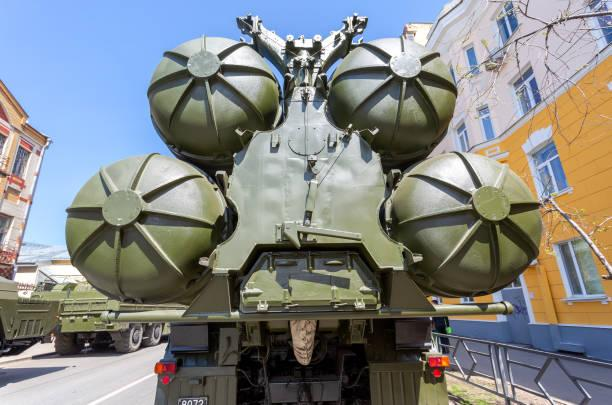MIL_SAM_TEL: (59, 0, 545, 405)
